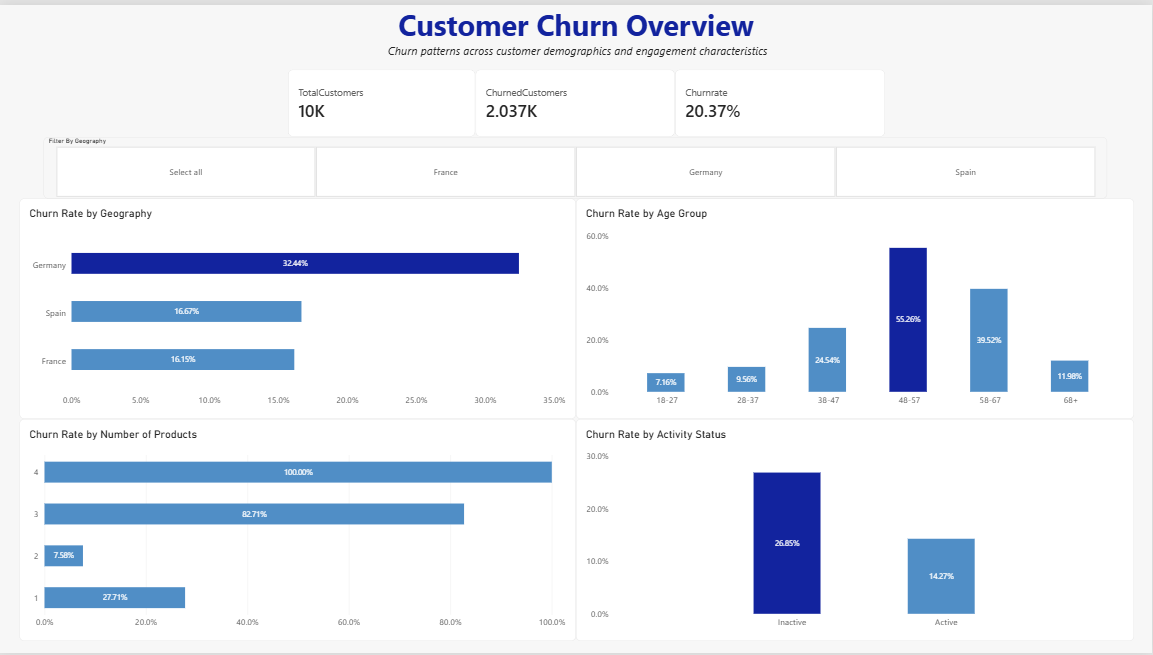

What the dashboard file says about the page in this screenshot:
{"tool":"powerbi","page":{"name":"Overview","canvas":[1920,1080],"ordinal":0},"visuals":[{"type":"cardVisual","title":"Overall Churnrate","fields":{"Data":["bankdata.Churnrate"]},"box":[1125,107.5,350,112.5],"z":0},{"type":"clusteredBarChart","title":"Churn Rate by Geography","fields":{"Category":["bankdata.Geography"],"Y":["bankdata.Churnrate"]},"box":[32.5,322.5,927.5,367.5],"z":1000},{"type":"clusteredColumnChart","title":"Churn Rate by Age Group","fields":{"Category":["bankdata.Ageband"],"Y":["bankdata.Churnrate"]},"box":[960,322.5,930,367.5],"z":2000},{"type":"clusteredBarChart","title":"Churn Rate by Number of Products","fields":{"Category":["bankdata.NumOfProducts"],"Y":["bankdata.Churnrate"]},"box":[32.5,690,927.5,370],"z":3000},{"type":"clusteredColumnChart","title":"Churn Rate by Activity Status","fields":{"Category":["bankdata.IsActiveMember"],"Y":["bankdata.Churnrate"]},"box":[960,690,930,370],"z":4000},{"type":"cardVisual","fields":{"Data":["bankdata.TotalCustomers"]},"box":[480,107.5,312.5,112.5],"z":5000},{"type":"cardVisual","fields":{"Data":["bankdata.ChurnedCustomers"]},"box":[792.5,107.5,332.5,112.5],"z":6000},{"type":"slicer","fields":{"Values":["bankdata.Geography"]},"box":[72.5,220,1772.5,102.5],"z":7000},{"type":"textbox","box":[0,0,1920,107.5],"z":8000}]}

Visuals, with their boxes in screenshot pixels (x1, y1, x2, y2), scaled from the page's 1920x1080 canvas onto the 1153x655 screenshot:
"Overall Churnrate" cardVisual: (676, 65, 886, 133)
"Churn Rate by Geography" clusteredBarChart: (20, 196, 576, 418)
"Churn Rate by Age Group" clusteredColumnChart: (576, 196, 1135, 418)
"Churn Rate by Number of Products" clusteredBarChart: (20, 418, 576, 643)
"Churn Rate by Activity Status" clusteredColumnChart: (576, 418, 1135, 643)
cardVisual - bankdata.TotalCustomers: (288, 65, 476, 133)
cardVisual - bankdata.ChurnedCustomers: (476, 65, 676, 133)
slicer - bankdata.Geography: (44, 133, 1108, 196)
textbox: (0, 0, 1152, 65)
